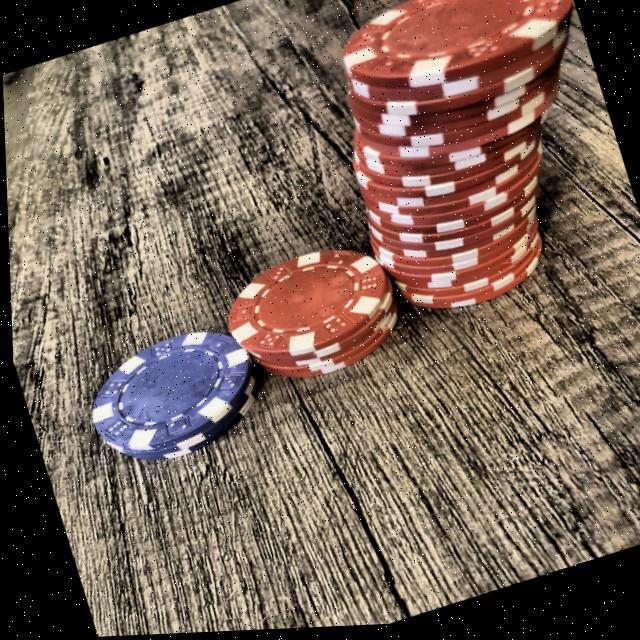Chip: (302, 0, 640, 337), (66, 312, 274, 483), (209, 231, 412, 403)
